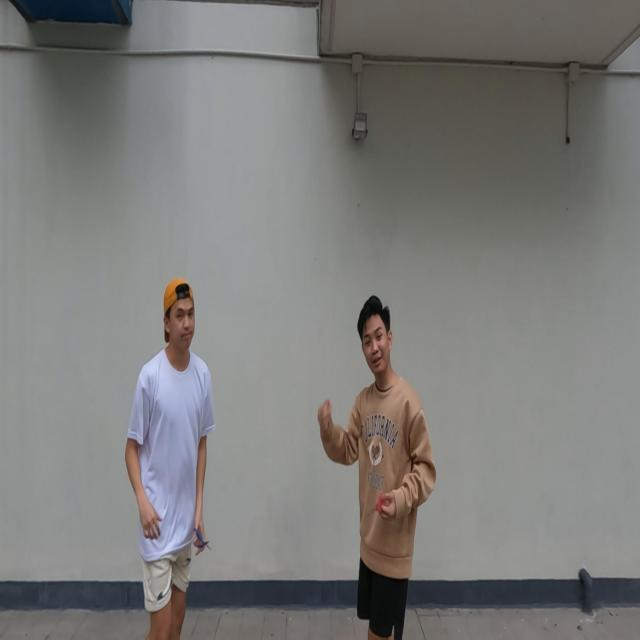scissor: (367, 491, 388, 519), (194, 526, 212, 552)
